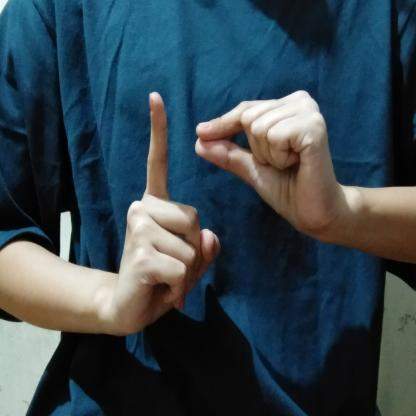son: (116, 83, 362, 342)
